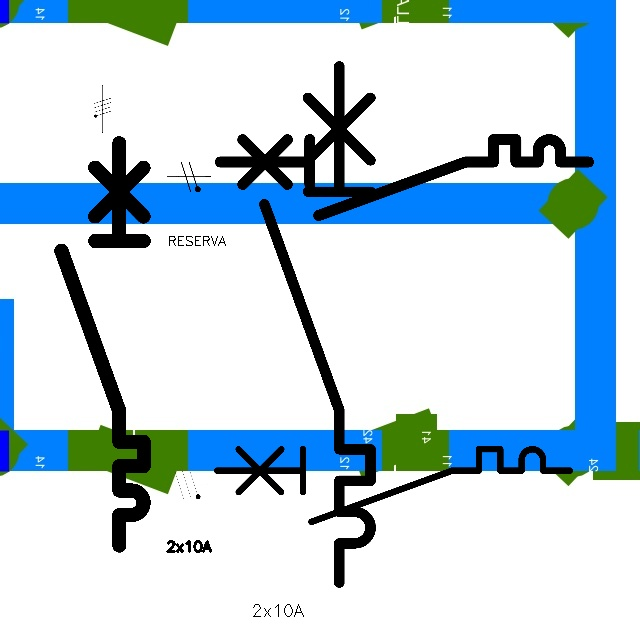interruptor_termomagnetico: (251, 53, 384, 596), (51, 132, 154, 555), (210, 130, 597, 225), (207, 440, 578, 530)
